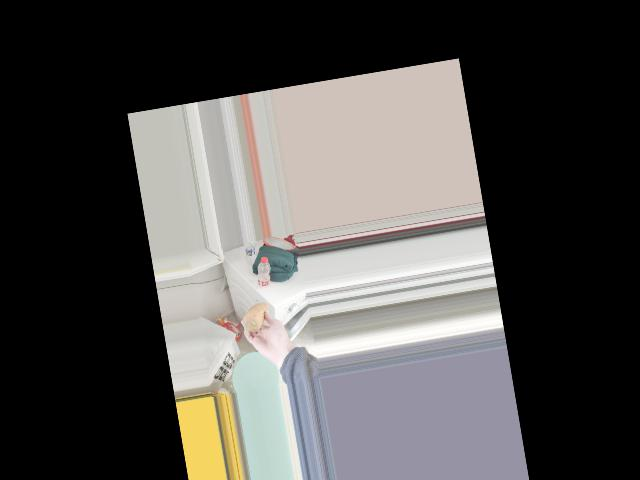sweet_potato: (243, 301, 275, 336)
